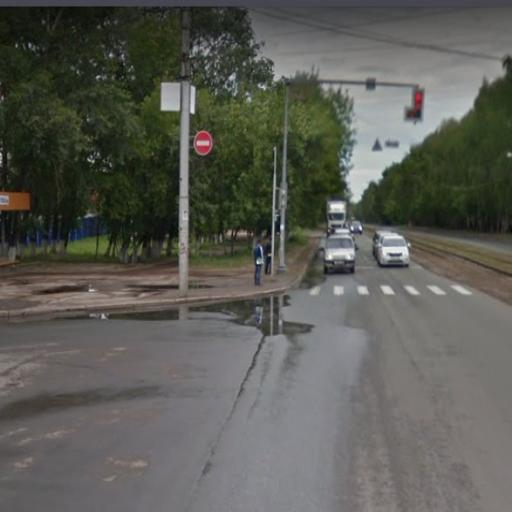traffic_sign: (193, 129, 215, 159)
